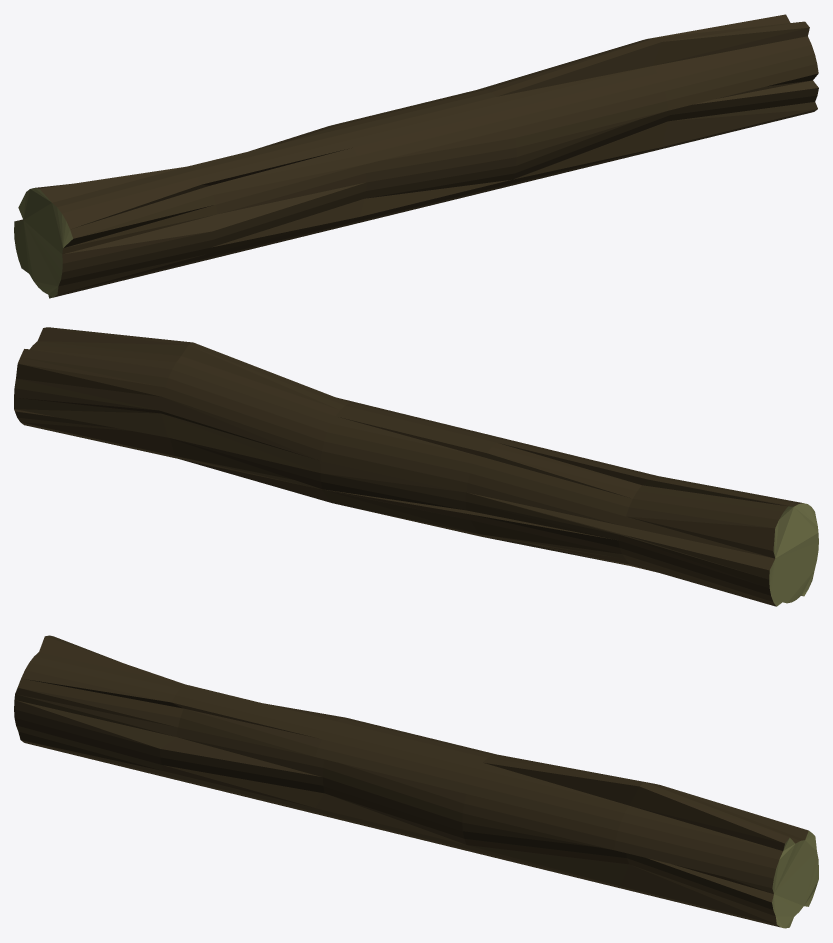
Rendered from stick.dae.
The picture shows the model from 3 angles, top to bottom: view 1: azimuth 30°, elevation 25°; view 2: azimuth 150°, elevation 25°; view 3: azimuth 330°, elevation 25°; orthographic projection.
Parts seen in each view (by area): view 1: Cylinder; view 2: Cylinder; view 3: Cylinder.
Boxes of the visible parts, box(x1,y1,x2,y2) form: Cylinder: box(14, 14, 818, 298); Cylinder: box(14, 327, 818, 606); Cylinder: box(14, 635, 818, 928).
Size of the model in its own units: 4.16 by 0.5086 by 0.5825.
